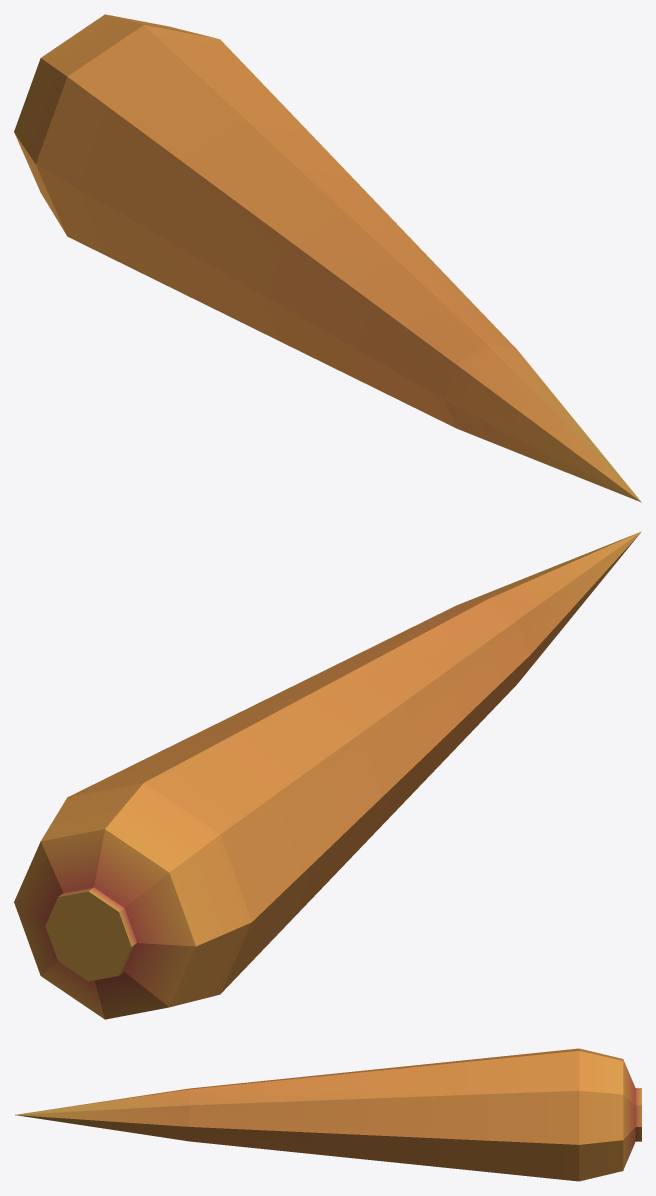
3 renders of one model, top to bottom at view 1: azimuth 30°, elevation 25°; view 2: azimuth 150°, elevation 25°; view 3: azimuth 270°, elevation 25°, orthographic. The views are drawn at different scales.
Parts seen in each view (by area): view 1: facet_segment; view 2: facet_segment; view 3: facet_segment.
Part boxes in pixels (x1,y1,x2,y2): facet_segment: (14,14,641,502); facet_segment: (14,531,641,1019); facet_segment: (15,1048,641,1181).
Bounding box in the file's own units: 0.0451 × 0.0451 × 0.2.
